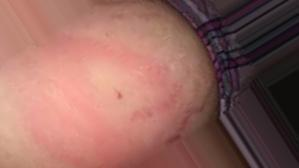Tick: (34, 32, 188, 164)
